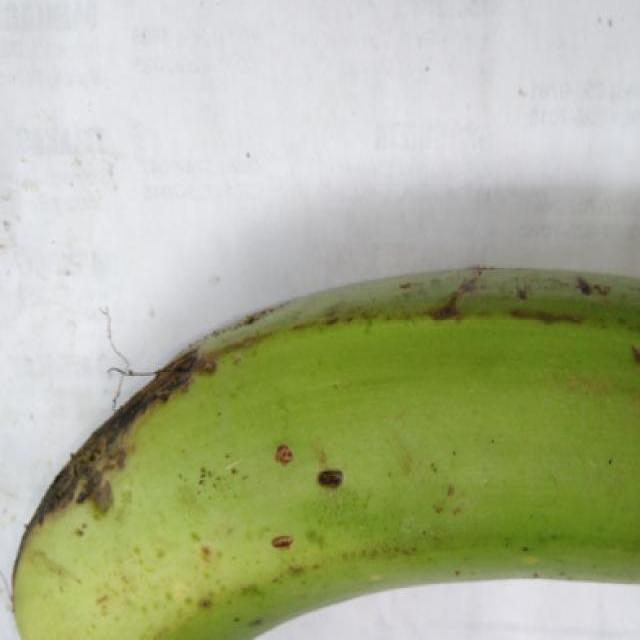Verde: (9, 262, 639, 639)
